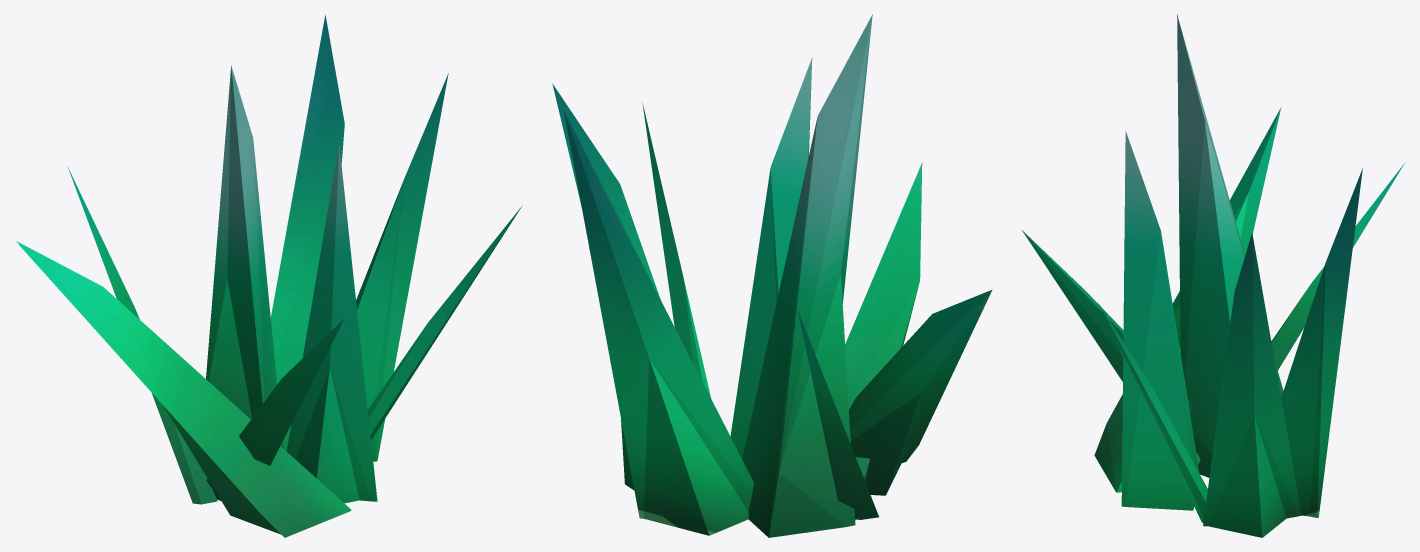
Rendered from Grass.fbx.
The picture shows the model from 3 angles, left to right: view 1: azimuth 30°, elevation 25°; view 2: azimuth 150°, elevation 25°; view 3: azimuth 270°, elevation 25°; orthographic projection. The views are drawn at different scales.
Parts seen in each view (by area): view 1: node_id84; view 2: node_id84; view 3: node_id84.
Boxes of the visible parts, <box> form: node_id84: <box>15,14,522,537</box>; node_id84: <box>552,14,992,537</box>; node_id84: <box>1022,14,1405,537</box>.
Bounding box in the file's own units: 0.4159 × 0.4394 × 0.3373.
1 material, 1 textured.
